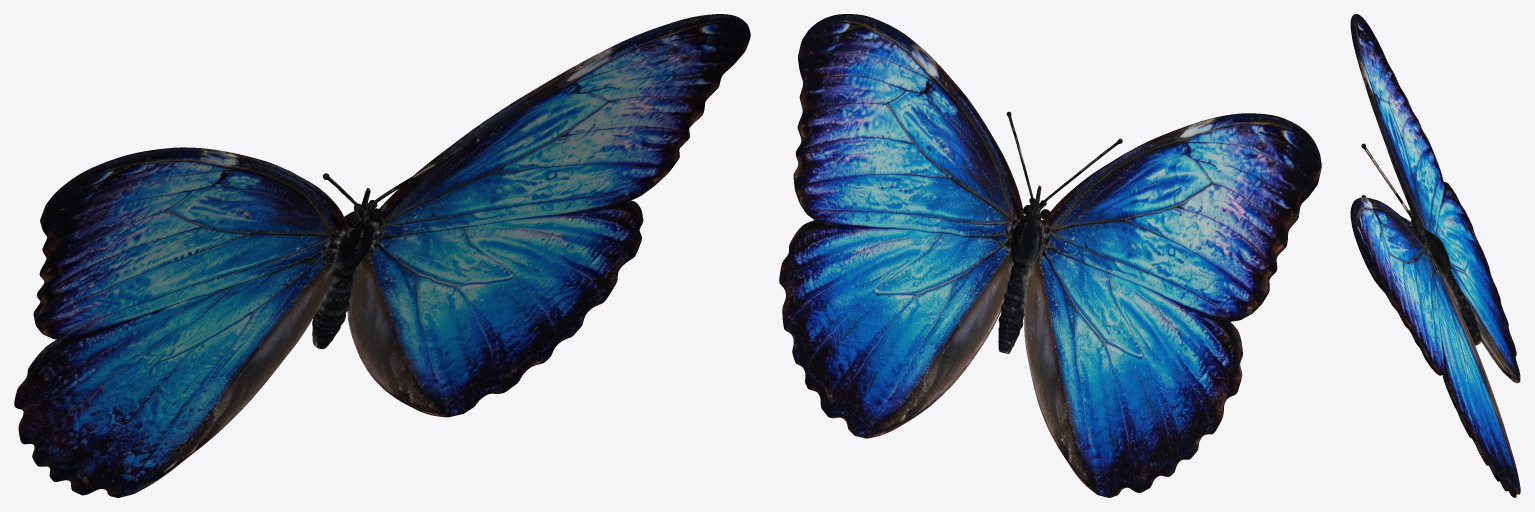
Rendered from morpho.glb.
The picture shows the model from 3 angles, left to right: view 1: azimuth 30°, elevation 25°; view 2: azimuth 150°, elevation 25°; view 3: azimuth 270°, elevation 25°; orthographic projection. The views are drawn at different scales.
Visible parts, largest first — view 1: morpho; view 2: morpho; view 3: morpho.
Part boxes in pixels (left/top/right/bottom): morpho: left=14, top=14, right=750, bottom=497; morpho: left=779, top=14, right=1321, bottom=497; morpho: left=1350, top=14, right=1520, bottom=497.
Bounding box in the file's own units: 1 × 0.6187 × 0.2994.
1 material, 1 textured.
